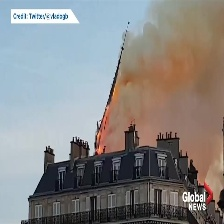fire: (92, 78, 119, 153)
smoke: (108, 3, 224, 185)
